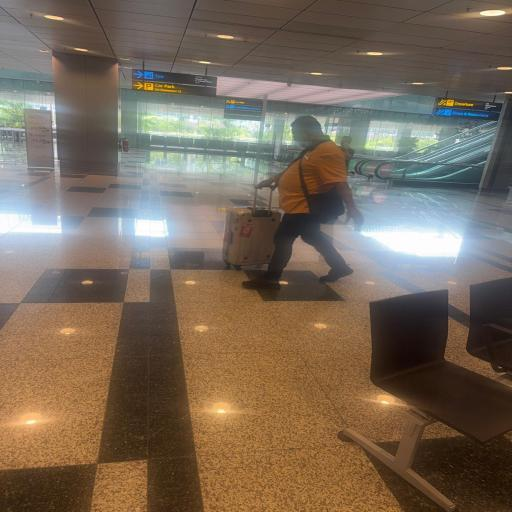person_left: (338, 135, 356, 166)
person_with_luggage_left: (222, 116, 364, 290)
